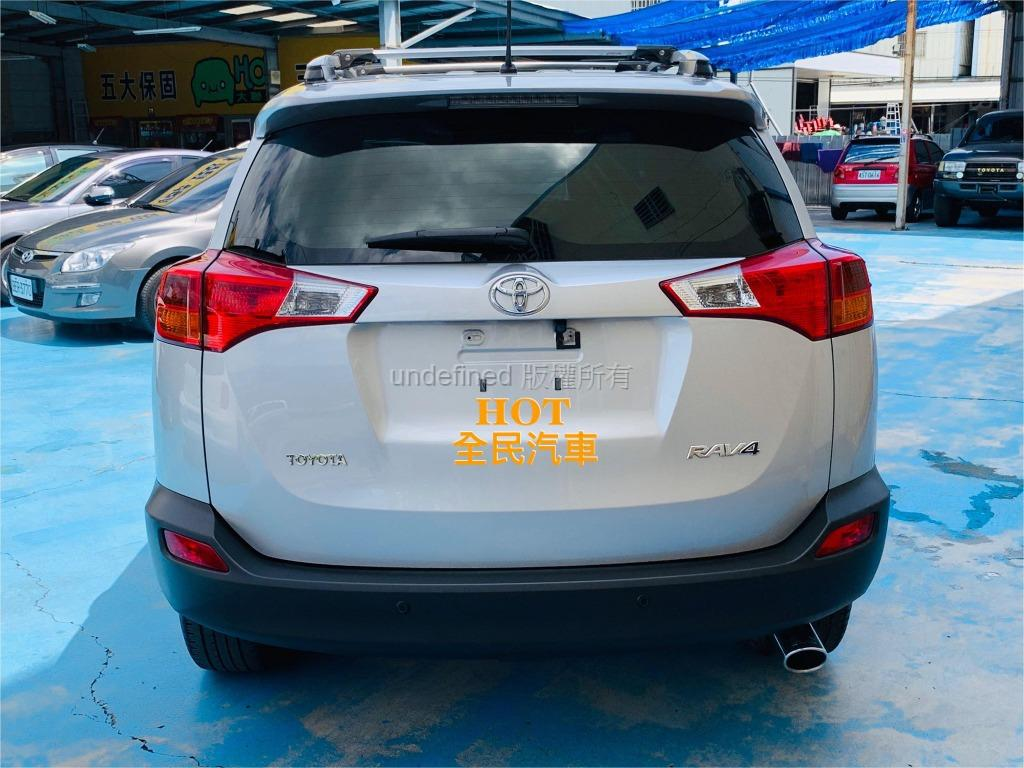toyota_rav4: (154, 71, 876, 635)
